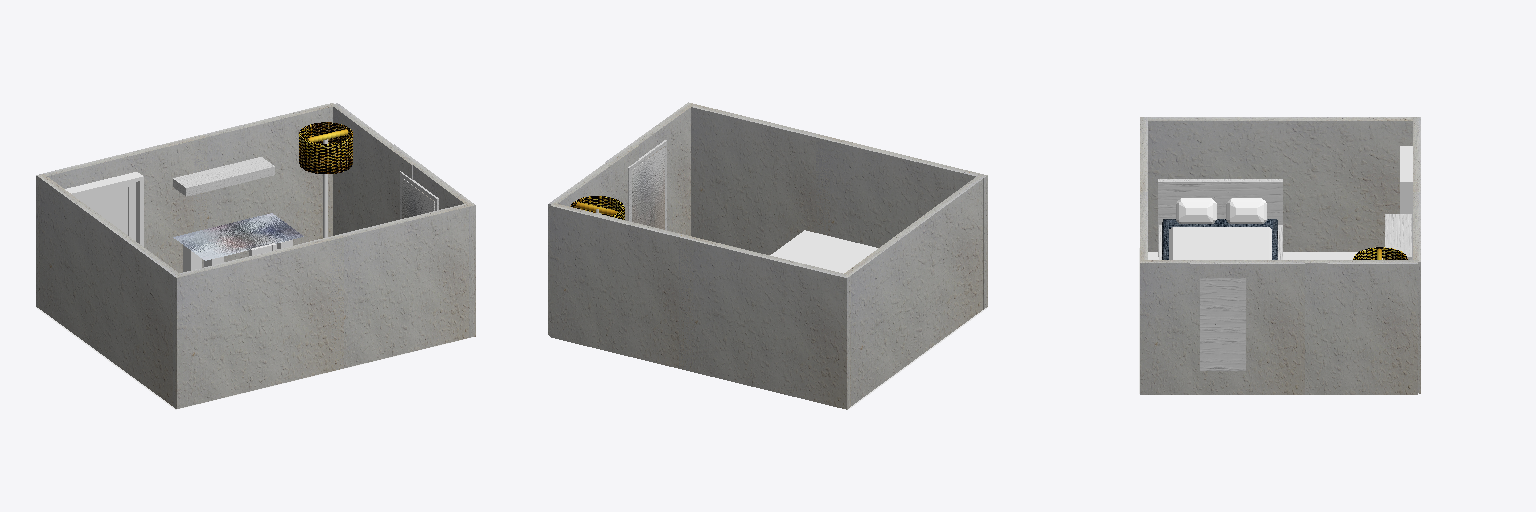
3 renders of one model, left to right at view 1: azimuth 30°, elevation 25°; view 2: azimuth 150°, elevation 25°; view 3: azimuth 270°, elevation 25°, orthographic.
Parts seen in each view (by area): view 1: Box026, Box027, Box025, Box001, Box002, Box003, Plane002, PivotDoor001, Tube001, Box009, Box008, Box023; view 2: Box002, Box001, Box027, Box025, Box026, Box009, Box012, Box003, Box023, Box024, Tube001; view 3: Box027, Box009, Box003, Box024, Box011, Box012, Box014, Box013, Box008, Box015, Box001, PivotDoor001 (+4 smaller).
Boxes of the visible parts, box(x1,y1,x2,y2) form: Box026: box(173, 234, 343, 408); Box027: box(37, 174, 180, 405); Box025: box(329, 204, 472, 369); Box001: box(190, 103, 333, 267); Box002: box(36, 134, 207, 308); Box003: box(332, 103, 415, 235); Plane002: box(173, 213, 303, 260); PivotDoor001: box(65, 172, 143, 246); Tube001: box(299, 122, 352, 173); Box009: box(389, 144, 475, 337); Box008: box(173, 157, 274, 196); Box023: box(402, 178, 434, 218); Box002: box(679, 234, 850, 409); Box001: box(550, 203, 694, 371); Box027: box(842, 175, 985, 405); Box025: box(691, 103, 831, 254); Box026: box(816, 135, 987, 309); Box009: box(605, 102, 692, 235); Box012: box(770, 230, 877, 273); Box003: box(548, 144, 638, 335); Box023: box(632, 146, 664, 229); Box024: box(628, 140, 666, 229); Tube001: box(570, 196, 624, 219); Box027: box(1148, 117, 1412, 251); Box009: box(1140, 260, 1304, 394); Box003: box(1252, 260, 1417, 394); Box024: box(1200, 278, 1245, 370); Box011: box(1158, 179, 1282, 256); Box012: box(1169, 227, 1271, 259); Box014: box(1226, 198, 1266, 223); Box013: box(1176, 198, 1216, 223); Box008: box(1385, 214, 1411, 259); Box015: box(1162, 219, 1277, 259); Box001: box(1413, 192, 1420, 393); PivotDoor001: box(1400, 146, 1412, 259).
Bounding box in the file's own units: 168 × 70.1 × 136.
12 materials, 7 textured.